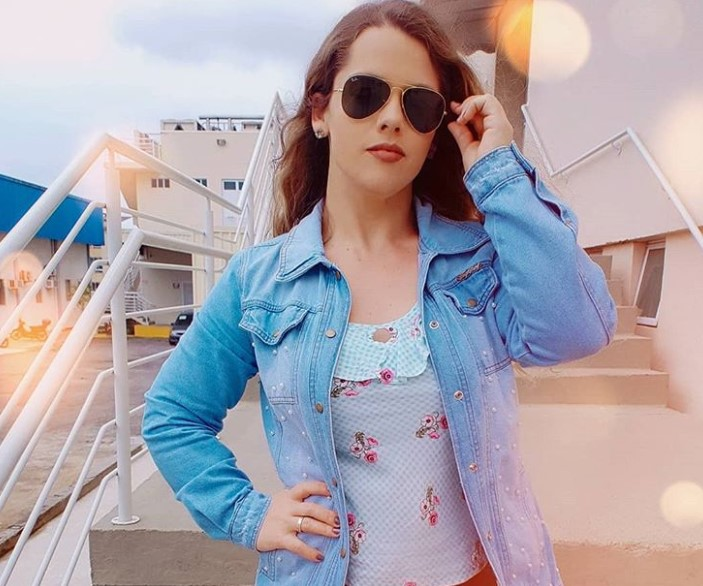face_no_mask: (307, 8, 456, 201)
